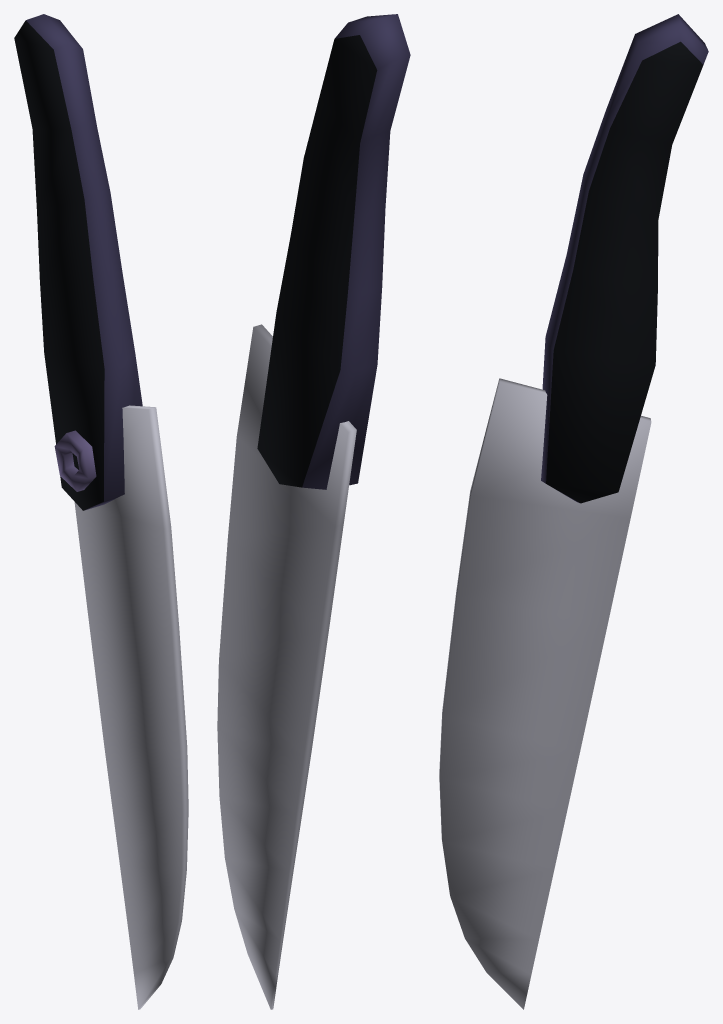
Rendered from knife01.fbx.
The picture shows the model from 3 angles, left to right: view 1: azimuth 30°, elevation 25°; view 2: azimuth 210°, elevation 25°; view 3: azimuth 270°, elevation 25°; orthographic projection. The views are drawn at different scales.
Parts seen in each view (by area): view 1: knife01; view 2: knife01; view 3: knife01.
Boxes of the visible parts, <box> form: knife01: <box>14,14,188,1009</box>; knife01: <box>217,14,410,1009</box>; knife01: <box>439,14,708,1009</box>.
Bounding box in the file's own units: 5.78 × 79.67 × 19.93.
